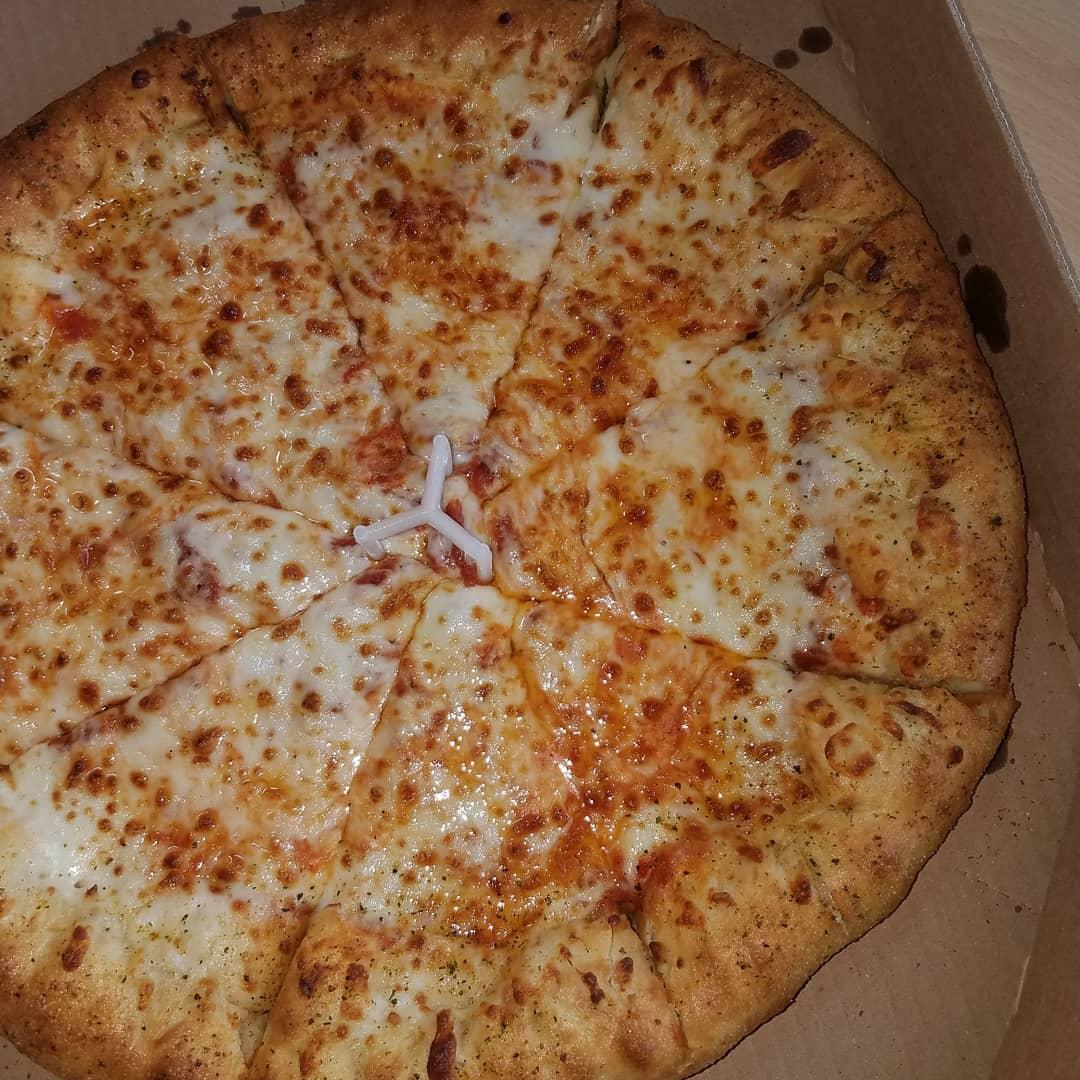Cheese: (10, 343, 335, 955), (333, 588, 801, 927), (155, 175, 799, 419), (495, 425, 899, 617)
Pizza: (0, 0, 1030, 1080)
